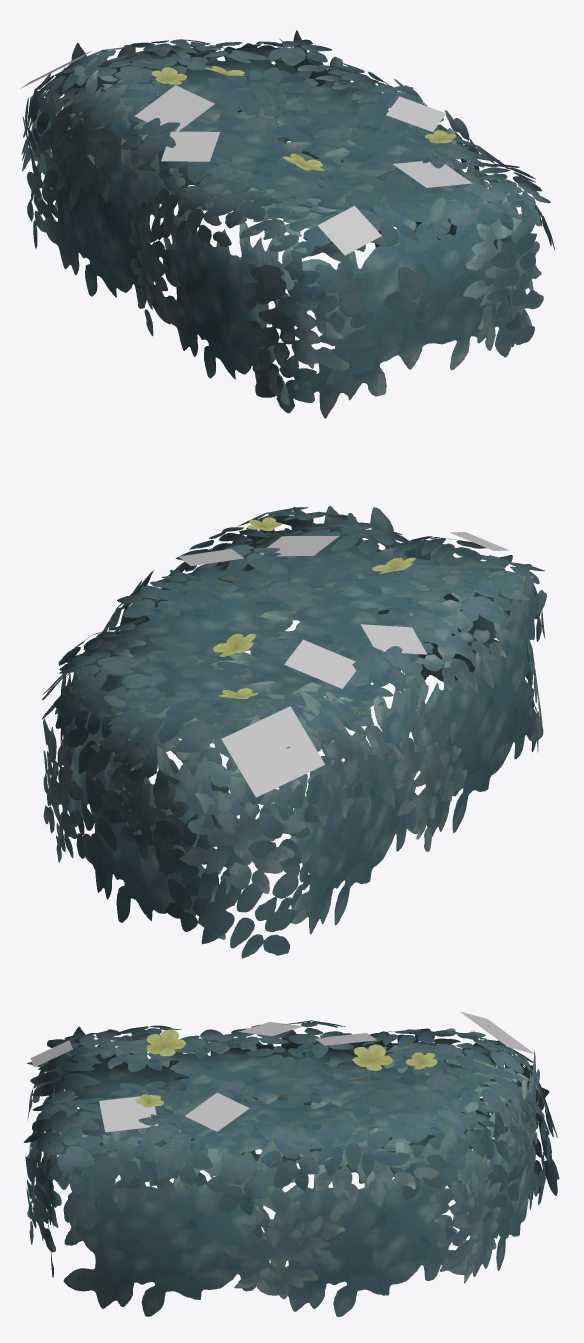
Rendered from pref_sm_beach_winter_techvegetation02_mirror_lv3.fbx.
3 renders of one model, top to bottom at view 1: azimuth 30°, elevation 25°; view 2: azimuth 150°, elevation 25°; view 3: azimuth 270°, elevation 25°, orthographic. The views are drawn at different scales.
Visible parts, largest first — view 1: pref_sm_beach_winter_techvegetation02_mirror_lv3, sm_beach_winter_techvegetation02b_mirror_lv3; view 2: pref_sm_beach_winter_techvegetation02_mirror_lv3, sm_beach_winter_techvegetation02b_mirror_lv3; view 3: pref_sm_beach_winter_techvegetation02_mirror_lv3, sm_beach_winter_techvegetation02b_mirror_lv3.
Part boxes in pixels (x1=…): pref_sm_beach_winter_techvegetation02_mirror_lv3: x1=21, y1=30, x2=554, y2=418; sm_beach_winter_techvegetation02b_mirror_lv3: x1=20, y1=51, x2=472, y2=255; pref_sm_beach_winter_techvegetation02_mirror_lv3: x1=41, y1=506, x2=546, y2=958; sm_beach_winter_techvegetation02b_mirror_lv3: x1=179, y1=532, x2=508, y2=797; pref_sm_beach_winter_techvegetation02_mirror_lv3: x1=23, y1=1020, x2=559, y2=1316; sm_beach_winter_techvegetation02b_mirror_lv3: x1=30, y1=1011, x2=534, y2=1132.
Bounding box in the file's own units: 2.85 × 1.87 × 4.31.
